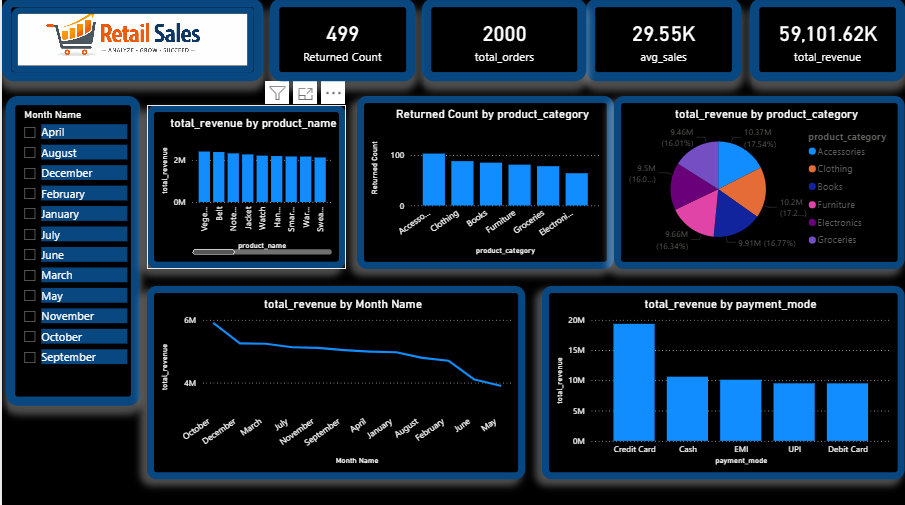

This screenshot's page, from the dashboard's own definition file:
{"tool":"powerbi","page":{"name":"Page 1","canvas":[1280,720],"ordinal":0},"visuals":[{"type":"card","fields":{"Values":["sales_store.total_revenue"]},"box":[1059.9,0,220.1,117.6],"z":0},{"type":"actionButton","box":[0,0,100,40],"z":2},{"type":"card","fields":{"Values":["sales_store.avg_sales"]},"box":[828.1,0,220.1,117.6],"z":3},{"type":"card","fields":{"Values":["sales_store.total_orders"]},"box":[594.6,0,233.5,117.6],"z":4},{"type":"image","box":[0,0,369.9,117.6],"z":5},{"type":"slicer","fields":{"Values":["sales_store.Month Name"]},"box":[5.7,138.9,189.9,439.4],"z":6},{"type":"lineChart","fields":{"Category":["sales_store.Month Name"],"Y":["sales_store.total_revenue"]},"box":[205.5,408.2,535.7,273.5],"z":8},{"type":"columnChart","fields":{"Category":["sales_store.product_category"],"Y":["sales_store.Returned Count"]},"box":[503.1,138.9,364.3,245.2],"z":9},{"type":"pieChart","fields":{"Category":["sales_store.product_category"],"Y":["sales_store.total_revenue"]},"box":[867.4,138.9,412.4,245.2],"z":10},{"type":"columnChart","fields":{"Category":["sales_store.product_name"],"Y":["sales_store.total_revenue"]},"box":[205.5,151.7,282,232.4],"z":11},{"type":"card","fields":{"Values":["sales_store.Returned Count"]},"box":[379.8,0,205.5,117.6],"z":12},{"type":"columnChart","fields":{"Category":["sales_store.payment_mode"],"Y":["sales_store.total_revenue"]},"box":[765.4,408.2,514.5,273.5],"z":13}]}

Visuals, with their boxes in screenshot pixels (x1, y1, x2, y2), scaled from the page's 1280x720 canvas onto the 905x505 screenshot:
card - sales_store.total_revenue: locate(749, 0, 904, 82)
actionButton: locate(0, 0, 71, 28)
card - sales_store.avg_sales: locate(585, 0, 741, 82)
card - sales_store.total_orders: locate(420, 0, 585, 82)
image: locate(0, 0, 262, 82)
slicer - sales_store.Month Name: locate(4, 97, 138, 406)
lineChart - sales_store.Month Name x sales_store.total_revenue: locate(145, 286, 524, 478)
columnChart - sales_store.product_category x sales_store.Returned Count: locate(356, 97, 613, 269)
pieChart - sales_store.product_category x sales_store.total_revenue: locate(613, 97, 904, 269)
columnChart - sales_store.product_name x sales_store.total_revenue: locate(145, 106, 345, 269)
card - sales_store.Returned Count: locate(269, 0, 414, 82)
columnChart - sales_store.payment_mode x sales_store.total_revenue: locate(541, 286, 904, 478)
